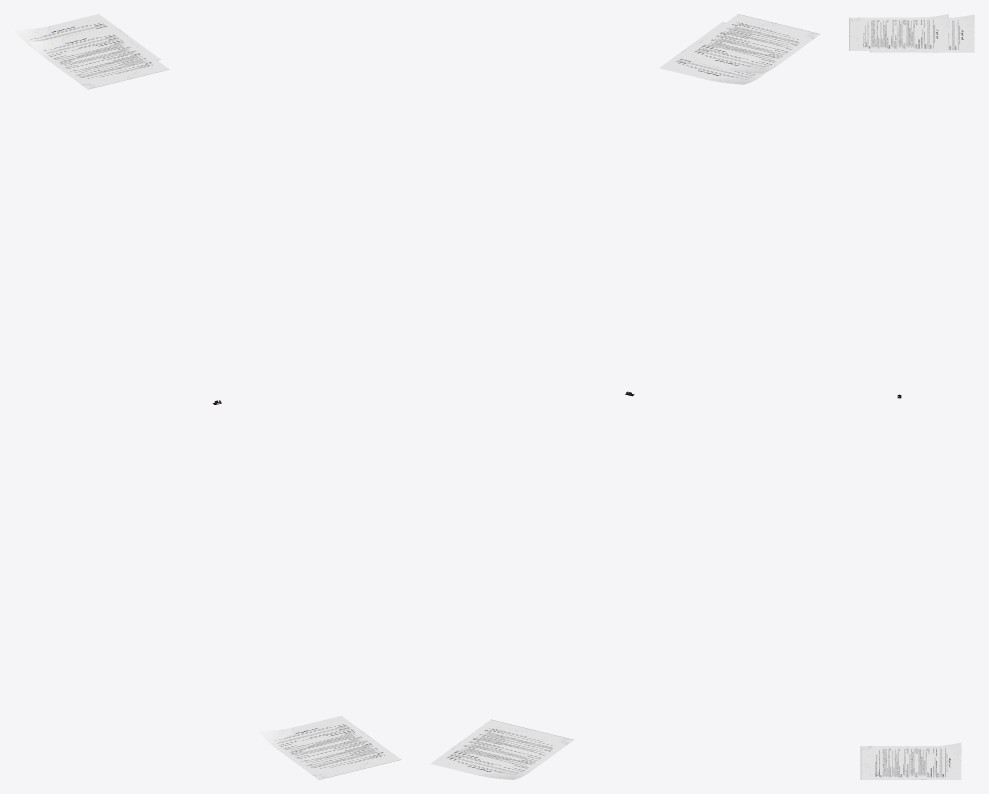
The model's file is hero-optimized.glb.
The picture shows the model from 3 angles, left to right: view 1: azimuth 30°, elevation 25°; view 2: azimuth 150°, elevation 25°; view 3: azimuth 270°, elevation 25°; orthographic projection. The views are drawn at different scales.
Parts seen in each view (by area): view 1: 02_2_all_0, 02_all_0, 02_1_all_0; view 2: 02_2_all_0, 02_all_0, 02_1_all_0; view 3: 02_2_all_0, 02_all_0, 02_1_all_0.
Boxes of the visible parts, x1,y1,x2,y2 form: 02_2_all_0: (259, 716, 401, 779); 02_all_0: (29, 26, 169, 89); 02_1_all_0: (14, 14, 160, 60); 02_2_all_0: (430, 719, 573, 779); 02_all_0: (678, 14, 820, 73); 02_1_all_0: (659, 22, 768, 84); 02_2_all_0: (860, 742, 961, 779); 02_all_0: (849, 14, 948, 50); 02_1_all_0: (870, 14, 974, 52).
Size of the model in its own units: 643 by 1450 by 259.
Materials: 87 (38 with a texture image).
